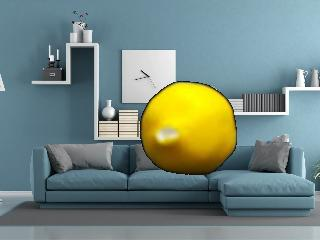lemon: (140, 82, 237, 174)
